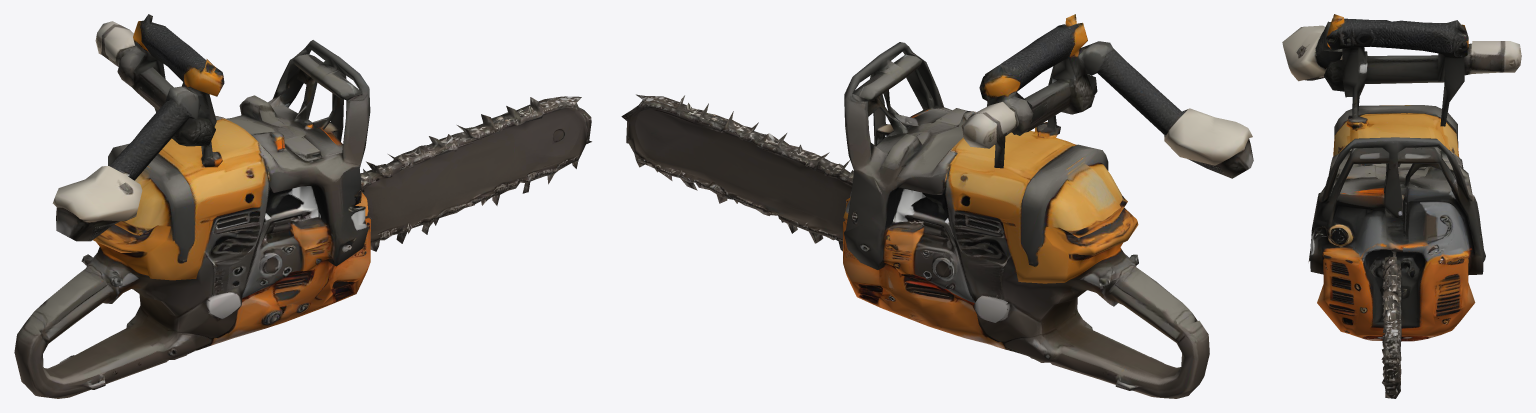
The model's file is chainsaw.glb.
The picture shows the model from 3 angles, left to right: view 1: azimuth 30°, elevation 25°; view 2: azimuth 150°, elevation 25°; view 3: azimuth 270°, elevation 25°; orthographic projection. The views are drawn at different scales.
Parts seen in each view (by area): view 1: tripo_node_f85446a4-9295-4b45-8d8a-ceb30460fdd9; view 2: tripo_node_f85446a4-9295-4b45-8d8a-ceb30460fdd9; view 3: tripo_node_f85446a4-9295-4b45-8d8a-ceb30460fdd9.
Part boxes in pixels (x1=…): tripo_node_f85446a4-9295-4b45-8d8a-ceb30460fdd9: x1=14, y1=14, x2=591, y2=398; tripo_node_f85446a4-9295-4b45-8d8a-ceb30460fdd9: x1=621, y1=14, x2=1253, y2=398; tripo_node_f85446a4-9295-4b45-8d8a-ceb30460fdd9: x1=1282, y1=14, x2=1521, y2=398.
Size of the model in its own units: 1 by 0.5415 by 0.3921.
Materials: 1 (1 with a texture image).
